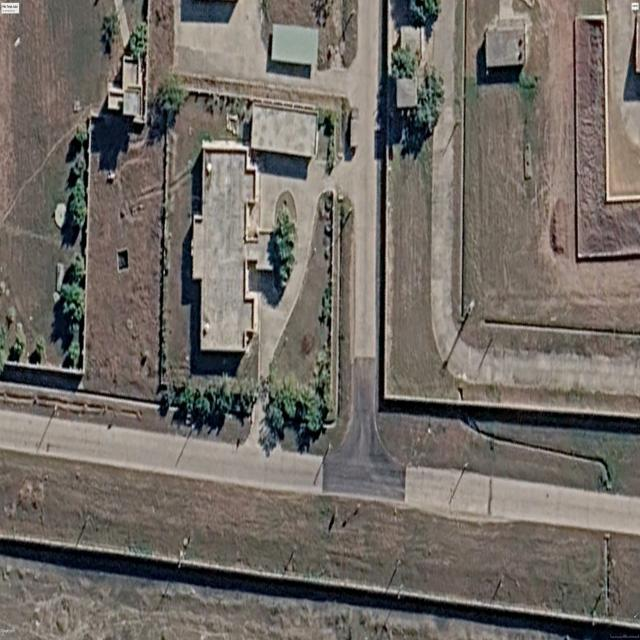Home: (192, 141, 259, 352), (251, 103, 317, 158)
